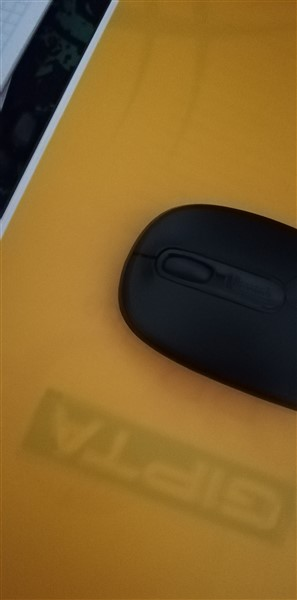mouse: (118, 198, 297, 420)
